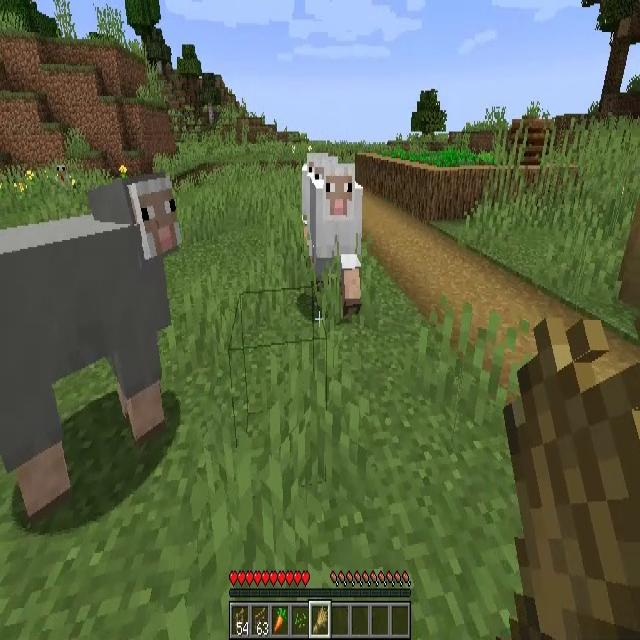sheep: (0, 172, 183, 520), (313, 164, 363, 310)
